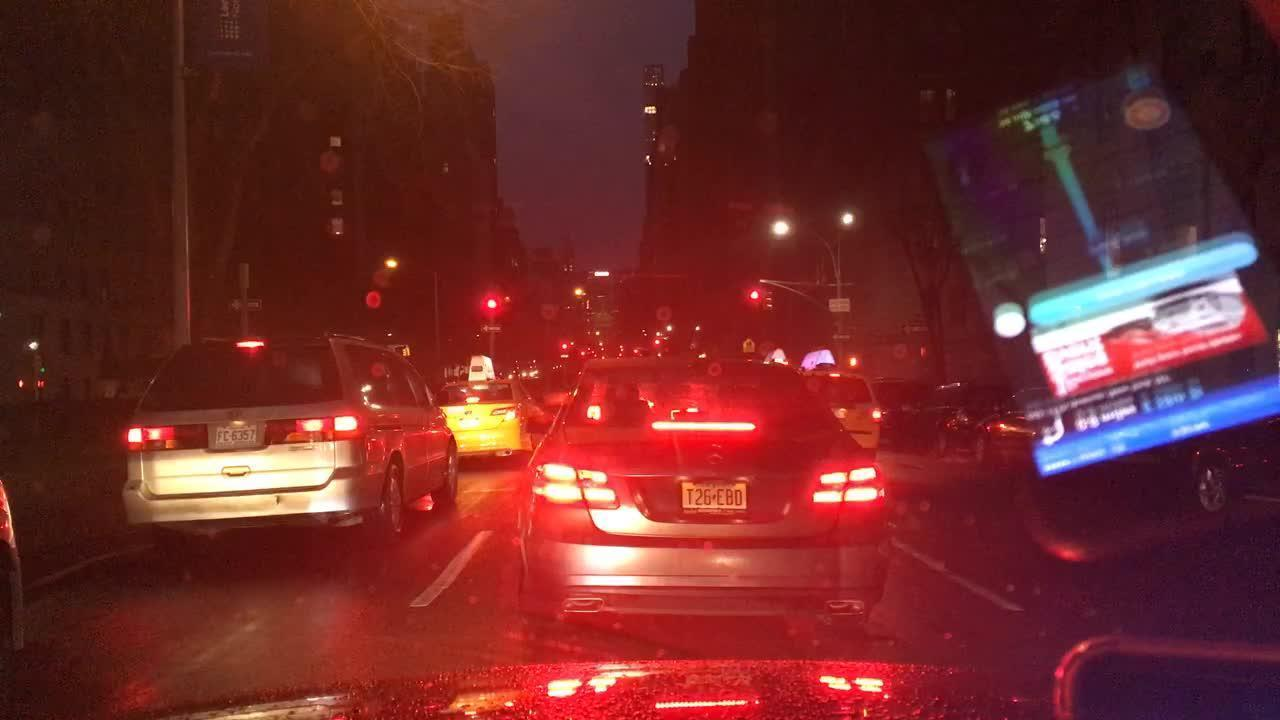Honda: (223, 407, 247, 424)
Mercedes: (698, 441, 729, 470)
